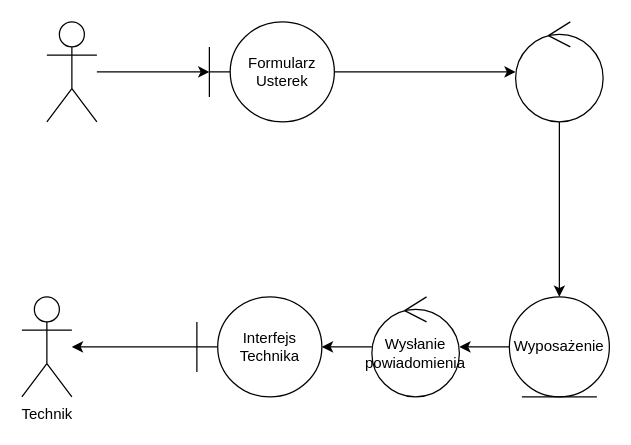
The diagram is 631 pixels wide and 445 high, and some of its shapes have lost their labels. Here are the shapes that lost their labels. From the top down, the box of each, then its label:
(46, 21, 97, 122): Pracwonik
(514, 21, 603, 122): Zmiana Statusu
